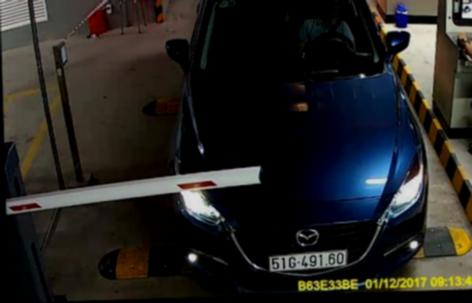License_Plate: (263, 248, 352, 274)
